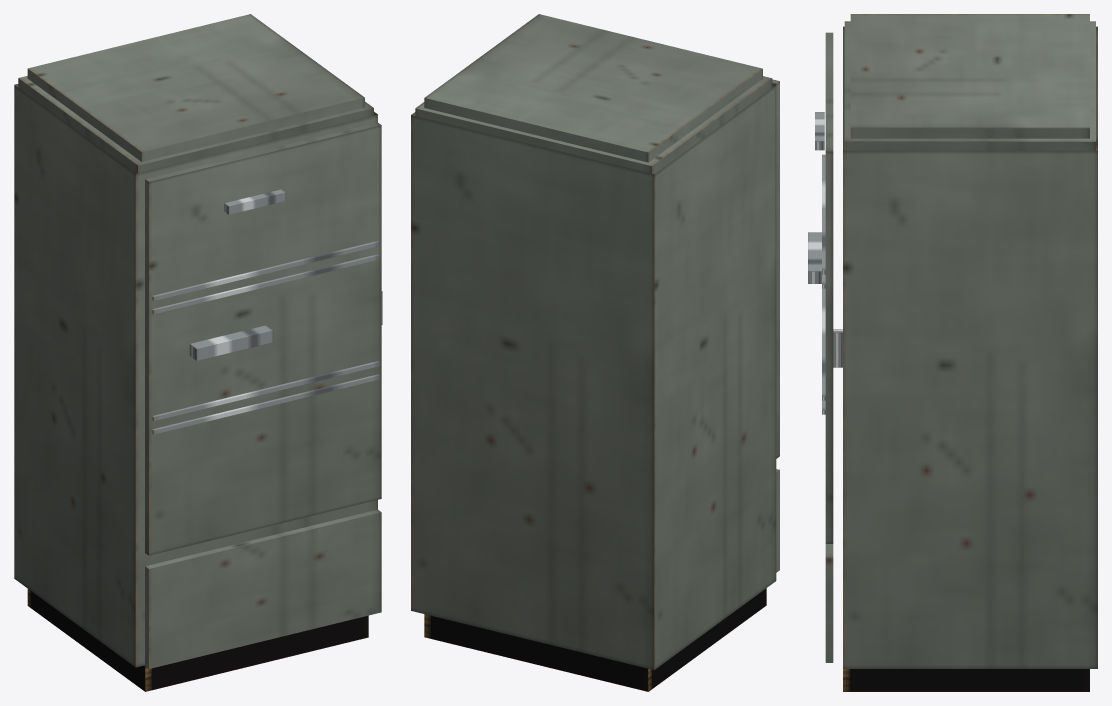
Rendered from Furn_Fridge_Old.fbx.
The picture shows the model from 3 angles, left to right: view 1: azimuth 30°, elevation 25°; view 2: azimuth 150°, elevation 25°; view 3: azimuth 270°, elevation 25°; orthographic projection. The views are drawn at different scales.
Visible parts, largest first — view 1: Furn_Fridge_Old; view 2: Furn_Fridge_Old; view 3: Furn_Fridge_Old.
Boxes of the visible parts, x1,y1,x2,y2 form: Furn_Fridge_Old: (14,14,382,691); Furn_Fridge_Old: (411,14,779,691); Furn_Fridge_Old: (808,14,1097,691).
Size of the model in its own units: 0.76 by 1.61 by 0.75.
